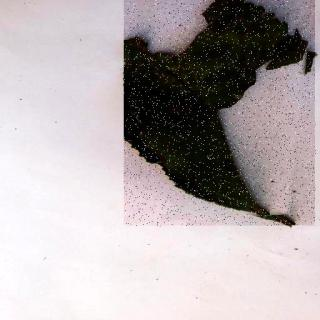Algal Leaf: (126, 1, 318, 227)
